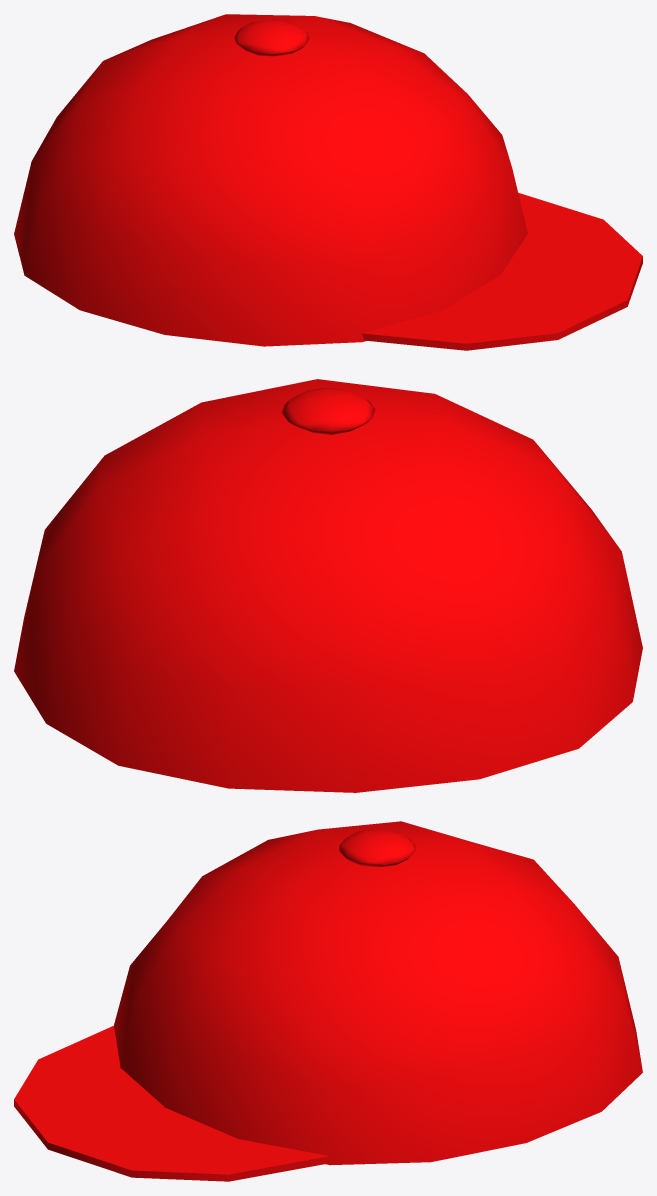
File: cap.fbx
The picture shows the model from 3 angles, top to bottom: view 1: azimuth 30°, elevation 25°; view 2: azimuth 150°, elevation 25°; view 3: azimuth 270°, elevation 25°; orthographic projection. The views are drawn at different scales.
Parts seen in each view (by area): view 1: Box001; view 2: Box001; view 3: Box001.
Part boxes in pixels (x1,y1,x2,y2): Box001: [14, 14, 642, 350]; Box001: [14, 379, 642, 792]; Box001: [14, 821, 642, 1181].
Size of the model in its own units: 7.31 by 3.07 by 8.03.
1 material, 1 textured.
